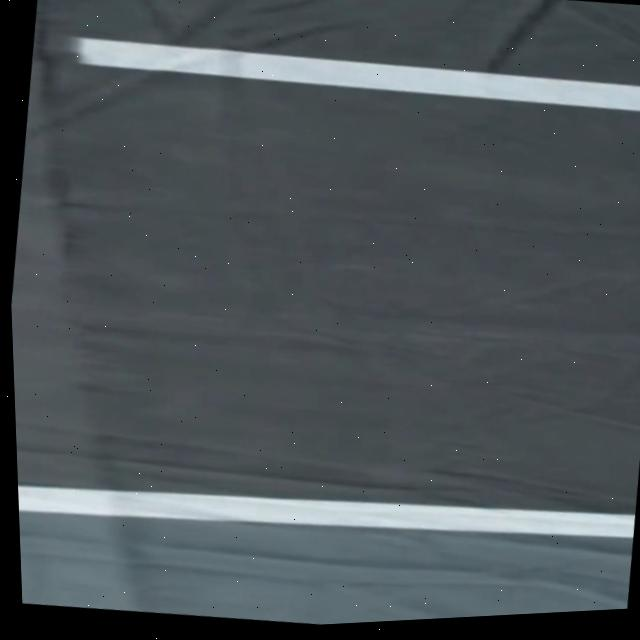center: (68, 36, 640, 110)
left: (18, 485, 635, 537)
